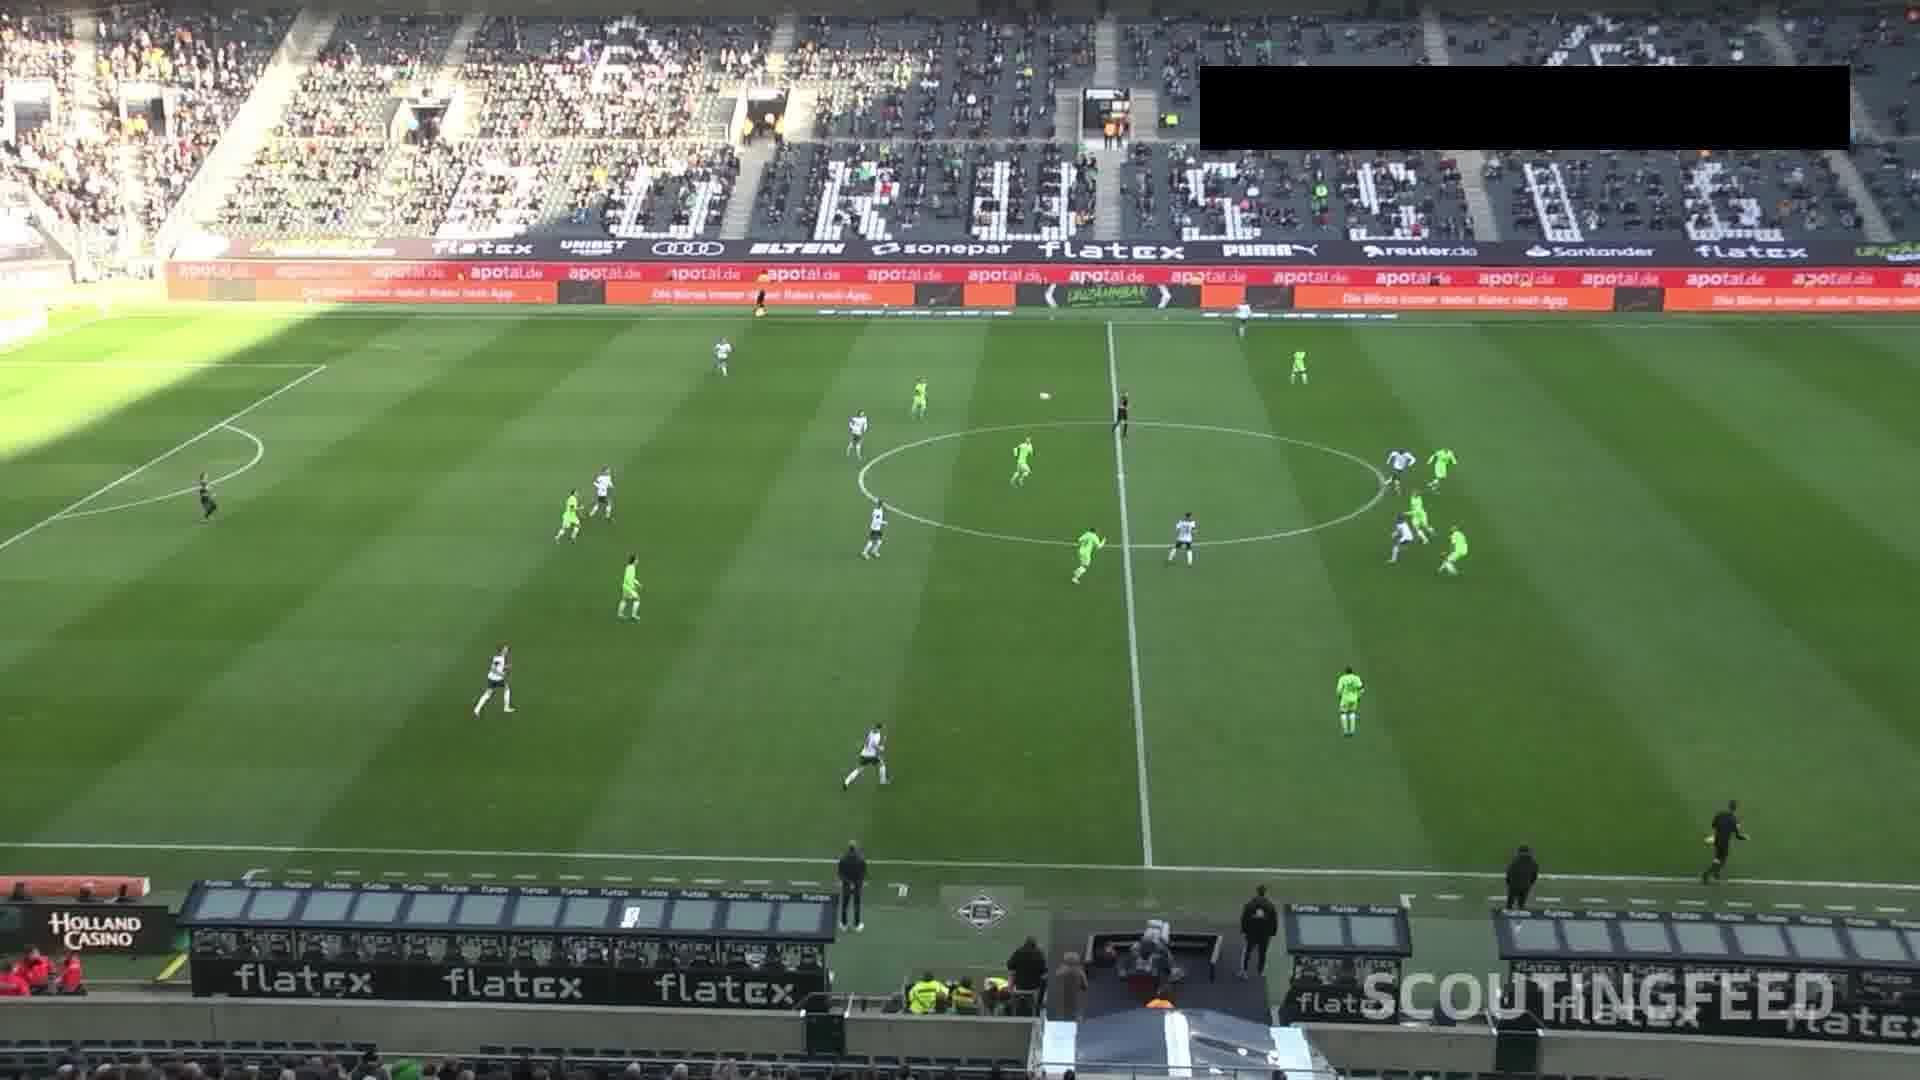football: (1040, 392, 1056, 401)
